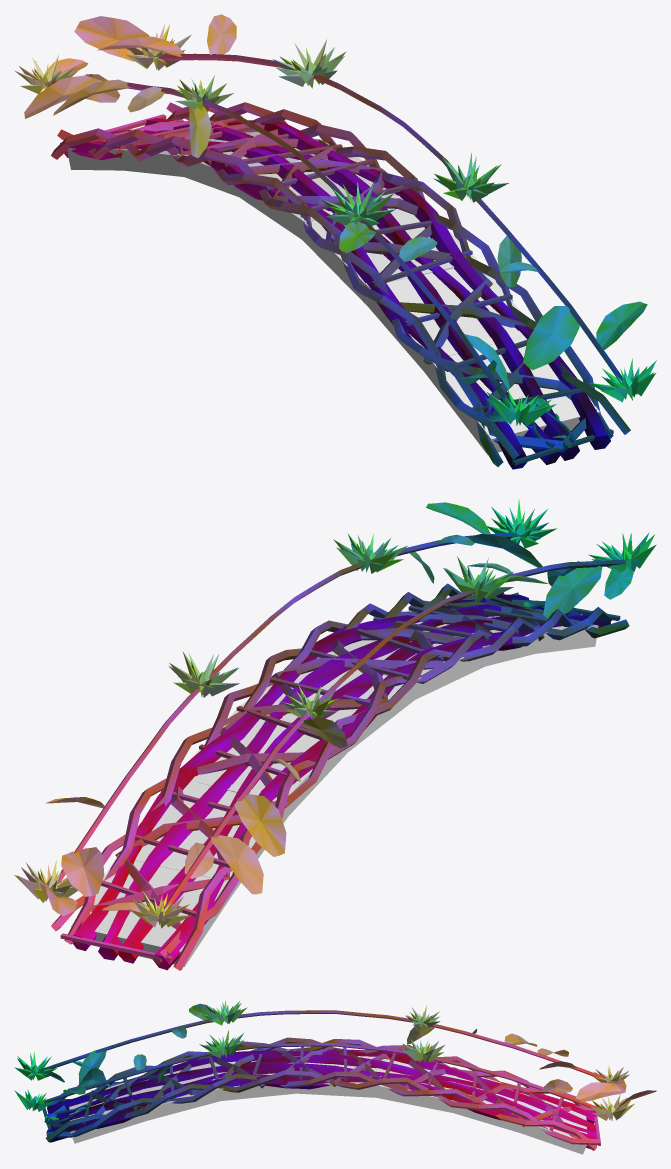
File: Plant_Bridge_01.fbx
The picture shows the model from 3 angles, top to bottom: view 1: azimuth 30°, elevation 25°; view 2: azimuth 150°, elevation 25°; view 3: azimuth 270°, elevation 25°; orthographic projection. The views are drawn at different scales.
Parts seen in each view (by area): view 1: Plant_Bridge_01, COL_01_1, COL_01_0, COL_01_2, COL_01_3, COL_01_5, COL_01_4, COL_01_6; view 2: Plant_Bridge_01, COL_01_6, COL_01_4, COL_01_5, COL_01_3, COL_01_2, COL_01_0, COL_01_1; view 3: Plant_Bridge_01, COL_01_1, COL_01_6, COL_01_4, COL_01_3, COL_01_0, COL_01_2, COL_01_5.
Part boxes in pixels (x1,y1,x2,y2): Plant_Bridge_01: (14,14,656,469); COL_01_1: (362,255,523,376); COL_01_0: (425,330,599,454); COL_01_2: (300,195,478,304); COL_01_3: (238,157,402,239); COL_01_5: (117,131,261,176); COL_01_4: (176,136,329,196); COL_01_6: (67,148,122,170); Plant_Bridge_01: (14,499,656,970); COL_01_6: (71,854,230,966); COL_01_4: (190,704,346,818); COL_01_5: (118,776,288,896); COL_01_3: (242,658,415,752); COL_01_2: (317,630,486,699); COL_01_0: (486,616,598,653); COL_01_1: (415,621,539,667); Plant_Bridge_01: (14,1000,656,1150); COL_01_1: (141,1062,219,1120); COL_01_6: (518,1093,587,1154); COL_01_4: (373,1059,456,1112); COL_01_3: (292,1050,382,1097); COL_01_0: (69,1080,151,1143); COL_01_2: (212,1050,299,1101); COL_01_5: (447,1075,527,1132).
Bounding box in the file's own units: 3.65 × 2.99 × 14.6.
